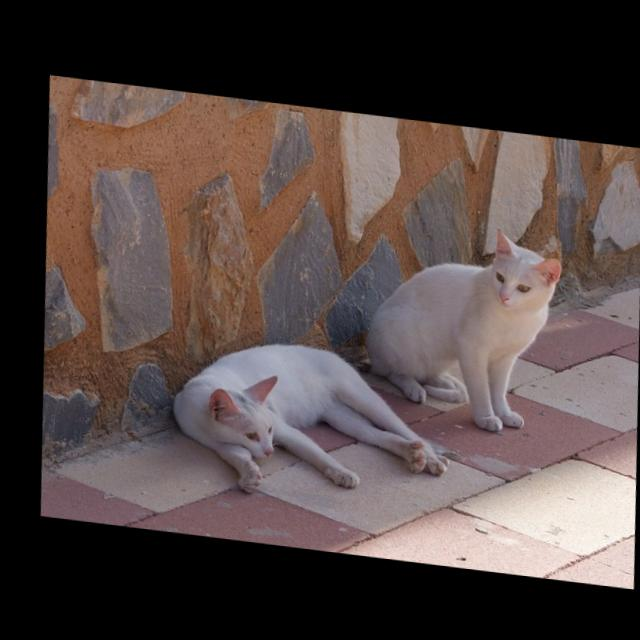animals: (360, 226, 560, 431), (166, 343, 438, 492)
